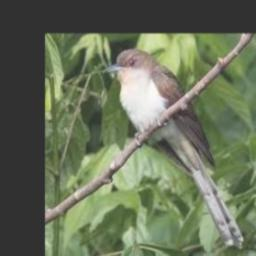Cuckoo: (104, 48, 244, 250)
